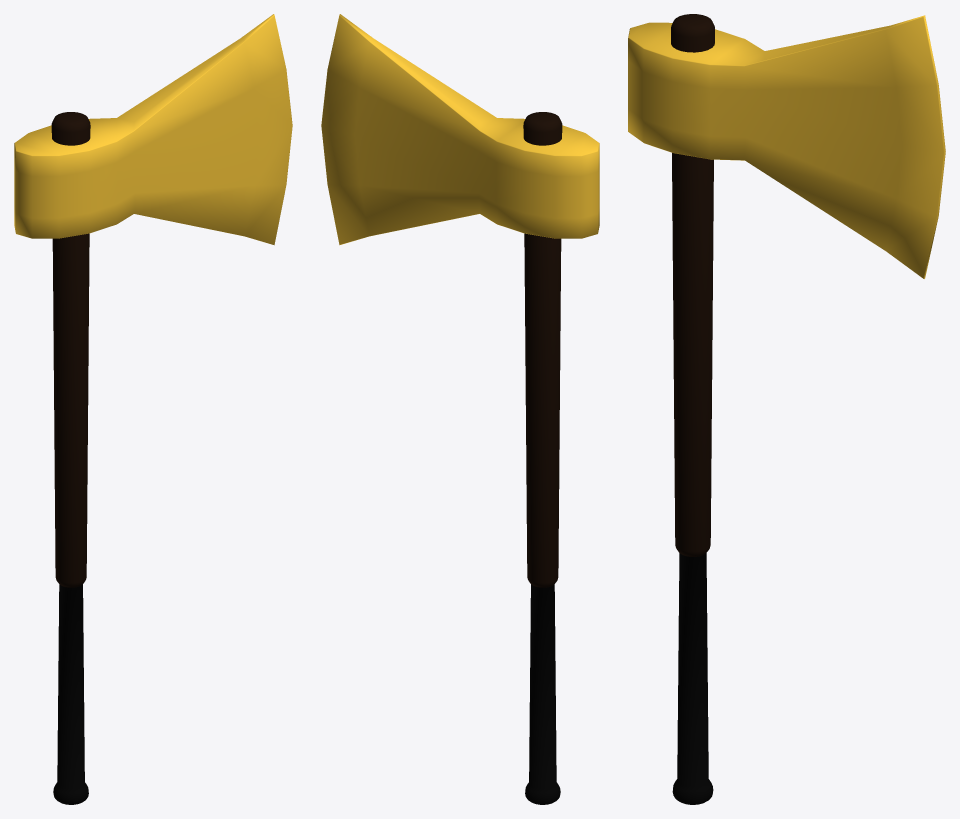
Rendered from OndeHand_Axe_Gold.obj.
3 views of the same model, side by side, from view 1: azimuth 30°, elevation 25°; view 2: azimuth 150°, elevation 25°; view 3: azimuth 330°, elevation 25° (orthographic). The views are drawn at different scales.
Visible parts, largest first — view 1: OndeHand_Axe_Gold_Cylinder.005; view 2: OndeHand_Axe_Gold_Cylinder.005; view 3: OndeHand_Axe_Gold_Cylinder.005.
Part boxes in pixels (box(x1,y1,x2,y2)): OndeHand_Axe_Gold_Cylinder.005: box(14, 14, 292, 804); OndeHand_Axe_Gold_Cylinder.005: box(321, 14, 599, 804); OndeHand_Axe_Gold_Cylinder.005: box(628, 14, 945, 804).
Bounding box in the file's own units: 3.09 × 7.88 × 0.6954.
